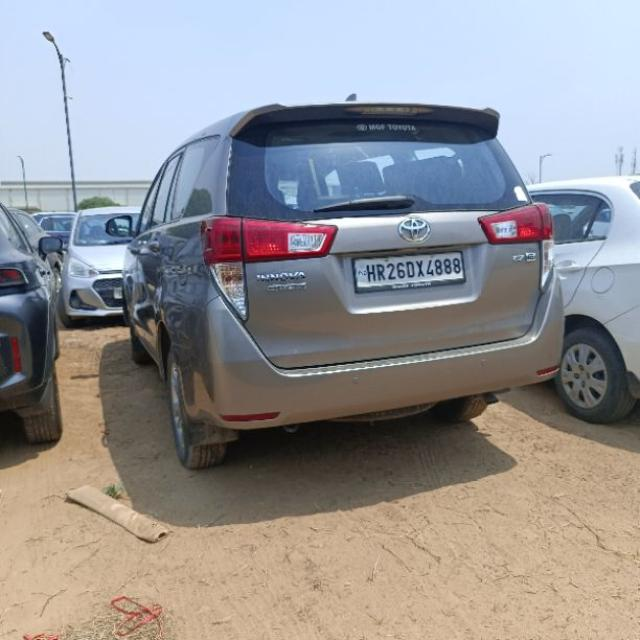license_plate: (351, 249, 466, 292)
